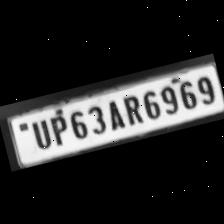3: (82, 100, 108, 137)
6: (64, 105, 90, 141), (136, 86, 162, 122), (173, 76, 198, 111)
9: (190, 70, 218, 107), (156, 81, 181, 117)
A: (102, 96, 126, 131)
P: (44, 110, 70, 147)
R: (119, 92, 144, 128)
U: (26, 115, 54, 151)
